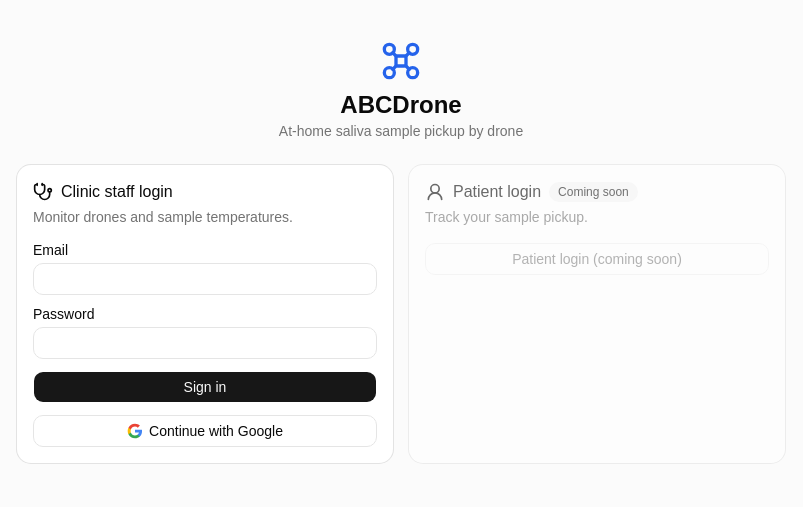
LoginPage › shows the error when sign-in fails
In the field labelled "Email": (205, 279) [33,263,377,295], type "staff@duke.edu"
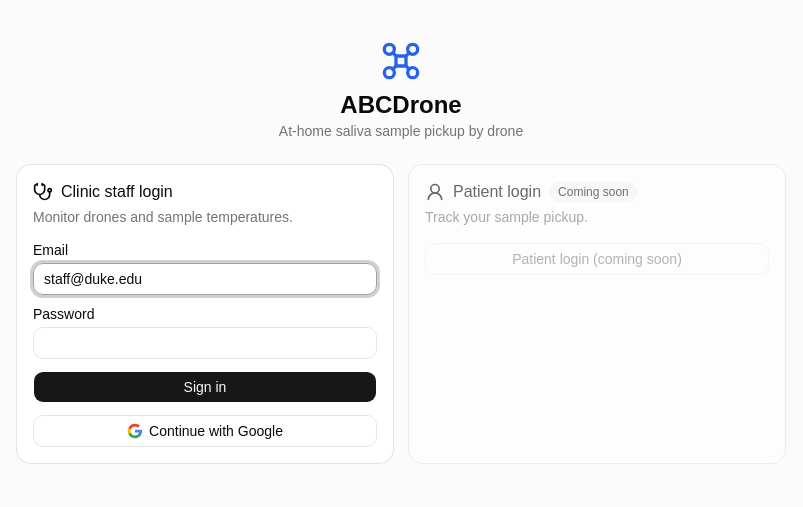
In the password field labelled "Password": (205, 343) [33,327,377,359], type "wrong"
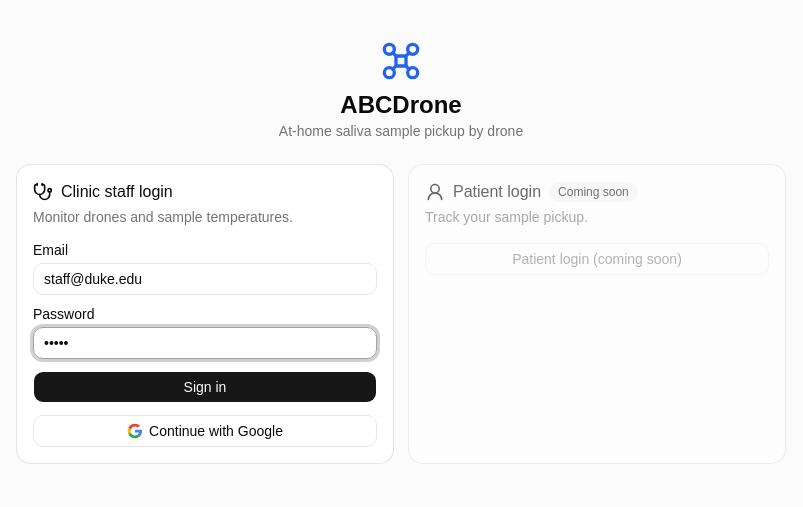
Click the button "Sign in": (205, 387) [33,371,377,403]
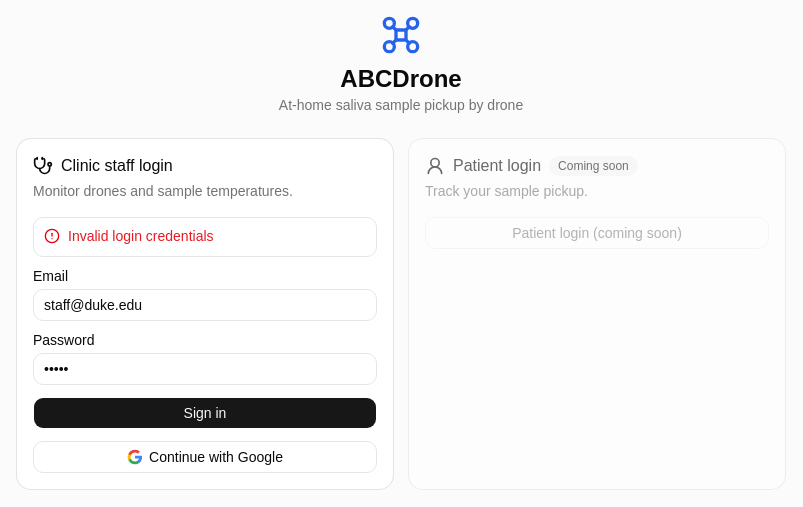
Expected: the text "Invalid login credentials" is shown, [68,228,214,244]
